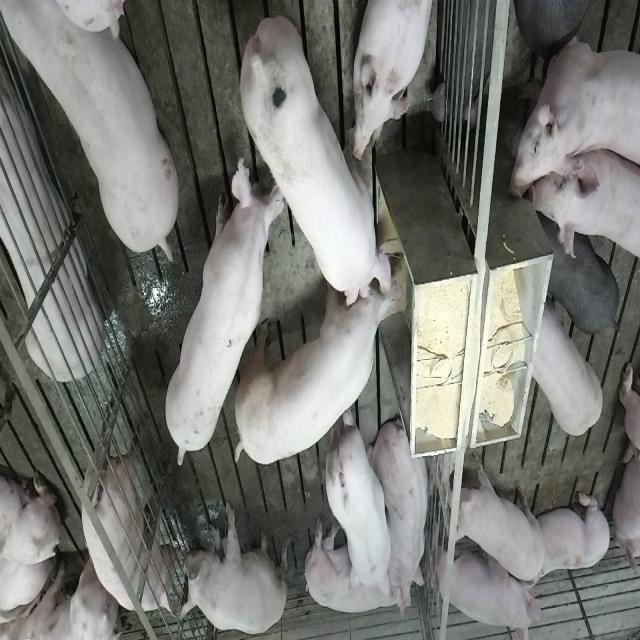Feeding: (236, 15, 397, 308), (229, 261, 401, 473)
Lateral_lying: (304, 517, 414, 623)
Sitting: (178, 500, 287, 636), (376, 408, 434, 614), (437, 540, 543, 638)
Standing: (5, 5, 184, 265), (160, 149, 280, 464), (506, 30, 638, 204), (82, 404, 182, 614), (446, 450, 546, 579), (529, 144, 637, 262), (324, 402, 390, 592), (528, 300, 602, 438), (542, 224, 620, 336), (515, 0, 602, 52)
Sternal_lying: (0, 36, 100, 380), (352, 0, 436, 157), (516, 484, 614, 590)
